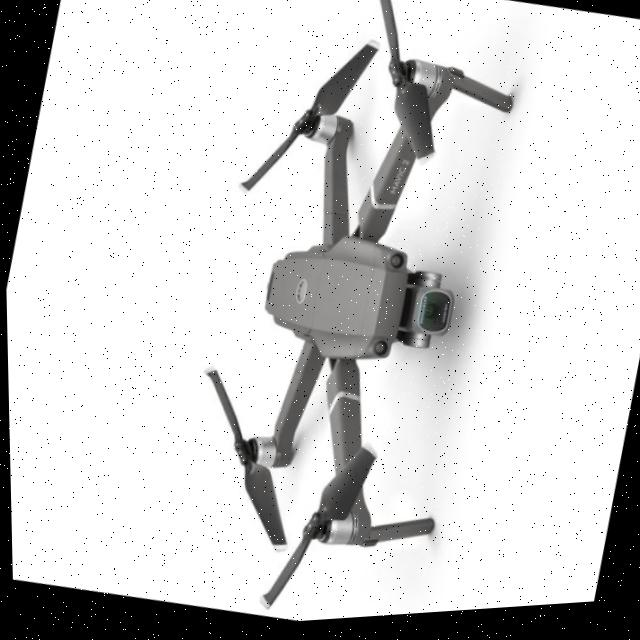drones: (117, 0, 601, 634)
